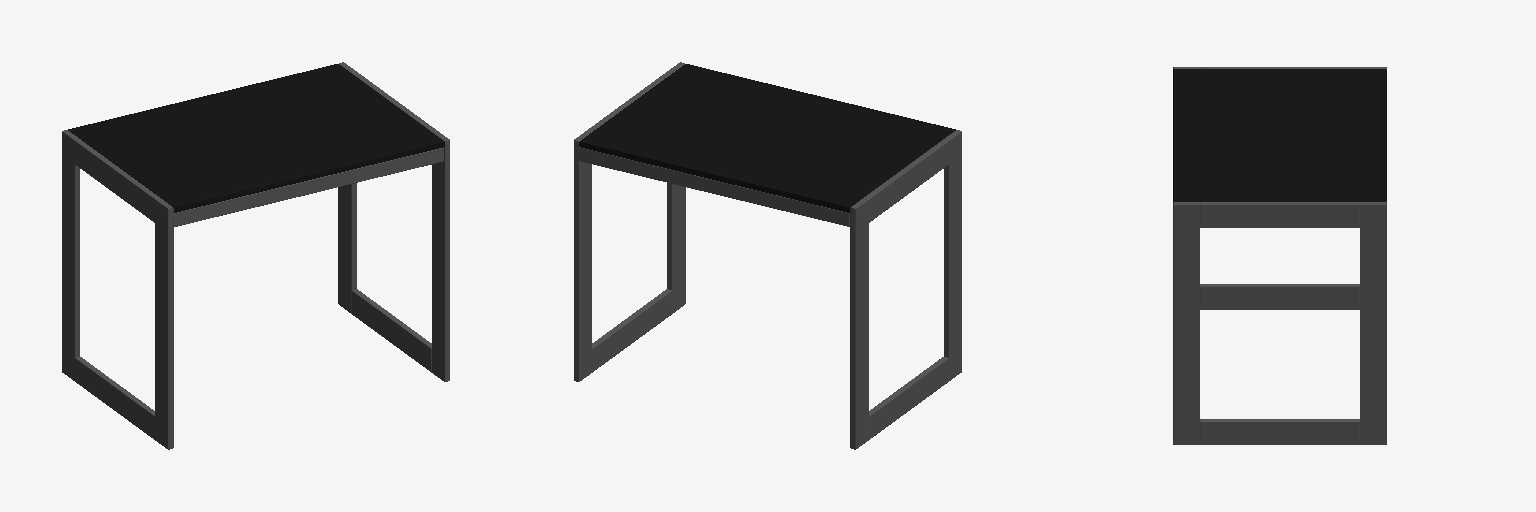
Rendered from Challenge_3_Table.obj.
3 renders of one model, left to right at view 1: azimuth 30°, elevation 25°; view 2: azimuth 150°, elevation 25°; view 3: azimuth 270°, elevation 25°, orthographic.
Parts seen in each view (by area): view 1: tabletop, tabletop pCube4 pCube5 pCube2 pCube2, tabletop pCube4 pCube5 pCube3 pCube3, tabletop pCube4 pCube5 pCube2 pCube2 pCube1 pCube1, tabletop pCube7 pCube6, tabletop pCube4 pCube5; view 2: tabletop, tabletop pCube4 pCube5 pCube3 pCube3, tabletop pCube4 pCube5 pCube2 pCube2, tabletop pCube4 pCube5 pCube2 pCube2 pCube1 pCube1, tabletop pCube7 pCube6, tabletop pCube4 pCube5; view 3: tabletop, tabletop pCube4 pCube5 pCube2 pCube2 pCube1 pCube1, tabletop pCube4 pCube5 pCube3 pCube3, tabletop pCube4 pCube5 pCube2 pCube2, tabletop pCube4 pCube5.
Boxes of the visible parts, <box> form: tabletop: <box>68,64,444,212</box>; tabletop pCube4 pCube5 pCube2 pCube2: <box>155,130,449,449</box>; tabletop pCube4 pCube5 pCube3 pCube3: <box>62,62,356,380</box>; tabletop pCube4 pCube5 pCube2 pCube2 pCube1 pCube1: <box>75,289,431,439</box>; tabletop pCube7 pCube6: <box>174,147,443,226</box>; tabletop pCube4 pCube5: <box>75,72,435,222</box>; tabletop: <box>579,64,955,212</box>; tabletop pCube4 pCube5 pCube3 pCube3: <box>574,130,868,449</box>; tabletop pCube4 pCube5 pCube2 pCube2: <box>667,62,961,380</box>; tabletop pCube4 pCube5 pCube2 pCube2 pCube1 pCube1: <box>592,289,948,439</box>; tabletop pCube7 pCube6: <box>579,147,849,226</box>; tabletop pCube4 pCube5: <box>588,72,948,222</box>; tabletop: <box>1173,69,1386,201</box>; tabletop pCube4 pCube5 pCube2 pCube2 pCube1 pCube1: <box>1200,284,1359,444</box>; tabletop pCube4 pCube5 pCube3 pCube3: <box>1360,67,1386,444</box>; tabletop pCube4 pCube5 pCube2 pCube2: <box>1173,67,1199,444</box>; tabletop pCube4 pCube5: <box>1200,67,1359,227</box>.
Size of the model in its own units: 12.25 by 10 by 8.